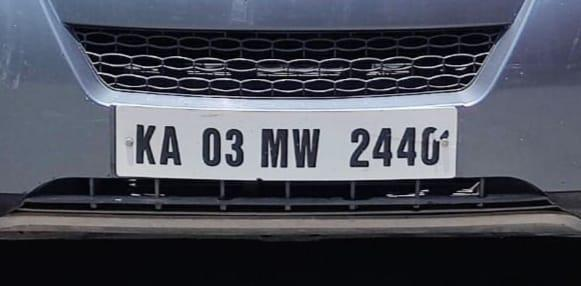0: (198, 119, 225, 169), (420, 120, 441, 167)
2: (344, 121, 371, 172)
3: (224, 123, 247, 170)
4: (394, 120, 419, 171), (370, 124, 395, 170)
A: (160, 120, 183, 170)
K: (132, 119, 158, 168)
M: (257, 123, 290, 170)
W: (290, 125, 325, 174)
